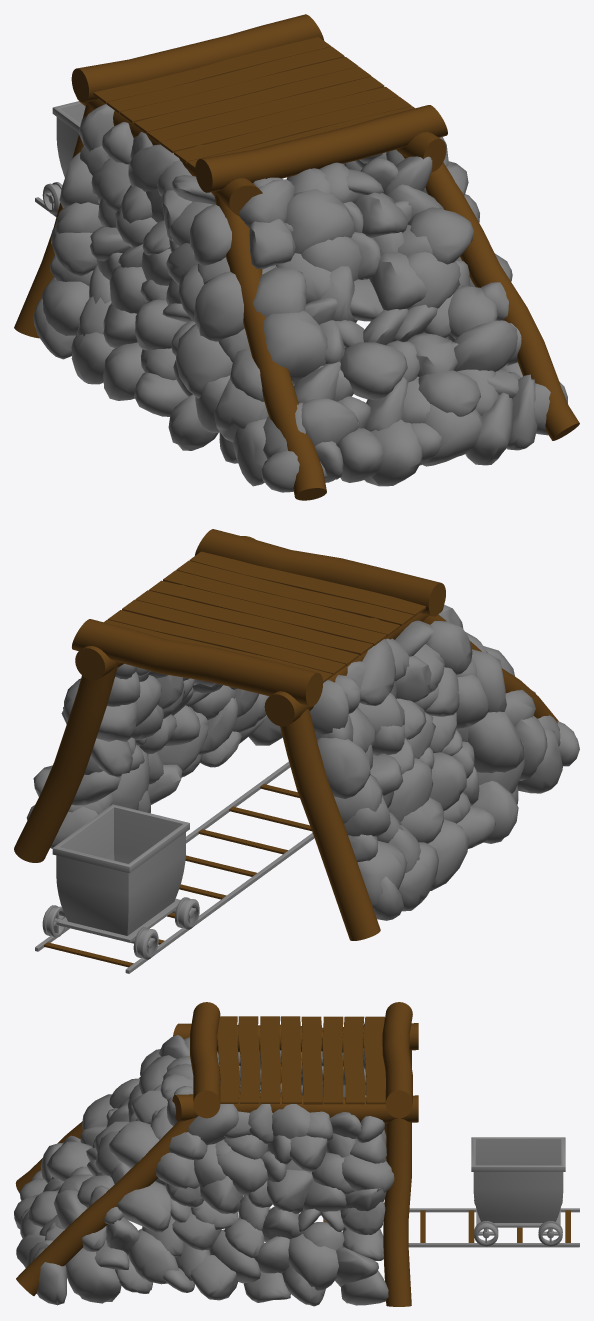
Rendered from Kopalnia 1.fbx.
3 views of the same model, one above another, from view 1: azimuth 30°, elevation 25°; view 2: azimuth 150°, elevation 25°; view 3: azimuth 270°, elevation 25° (orthographic). The views are drawn at different scales.
Parts seen in each view (by area): view 1: Cube, Cube.002, Cylinder.005, Cylinder.006, Cylinder.004, Cylinder.003, Cylinder, Cube.006; view 2: Cube, Cube.002, Cylinder, Cube.006, Cylinder.004, Cylinder.006, Cylinder.003, Cube.003, Cube.001, Cylinder.008, Cube.007, Cylinder.005; view 3: Cube, Cube.002, Cube.006, Cylinder.005, Cylinder, Cylinder.003, Cylinder.004, Cylinder.006, Cube.001, Cylinder.008, Cube.003.
Part boxes in pixels (box(x1,y1,x2,y2)): Cube: box(33, 104, 567, 492); Cube.002: box(93, 37, 414, 169); Cylinder.005: box(214, 155, 579, 500); Cylinder.006: box(195, 105, 447, 192); Cylinder.004: box(71, 14, 324, 102); Cylinder.003: box(76, 91, 446, 215); Cylinder: box(14, 105, 92, 338); Cube.006: box(52, 101, 85, 177); Cube: box(26, 604, 579, 920); Cube.002: box(104, 551, 425, 682); Cylinder: box(14, 661, 380, 940); Cube.006: box(52, 804, 189, 935); Cylinder.004: box(72, 619, 323, 706); Cylinder.006: box(195, 529, 445, 616); Cylinder.003: box(75, 536, 443, 726); Cube.003: box(44, 784, 311, 967); Cube.001: box(35, 761, 314, 973); Cylinder.008: box(42, 897, 199, 959); Cube.007: box(58, 898, 180, 942); Cylinder.005: box(422, 614, 558, 723); Cube: box(14, 1023, 394, 1306); Cube.002: box(217, 1016, 385, 1104); Cube.006: box(471, 1137, 565, 1222); Cylinder.005: box(15, 1077, 195, 1295); Cylinder: box(383, 1050, 411, 1306); Cylinder.003: box(172, 1023, 418, 1123); Cylinder.004: box(382, 1002, 412, 1118); Cylinder.006: box(190, 1002, 220, 1118); Cube.001: box(237, 1208, 579, 1247); Cylinder.008: box(474, 1197, 562, 1246); Cube.003: box(323, 1210, 570, 1242).
Bounding box in the file's own units: 385 × 270 × 662.
